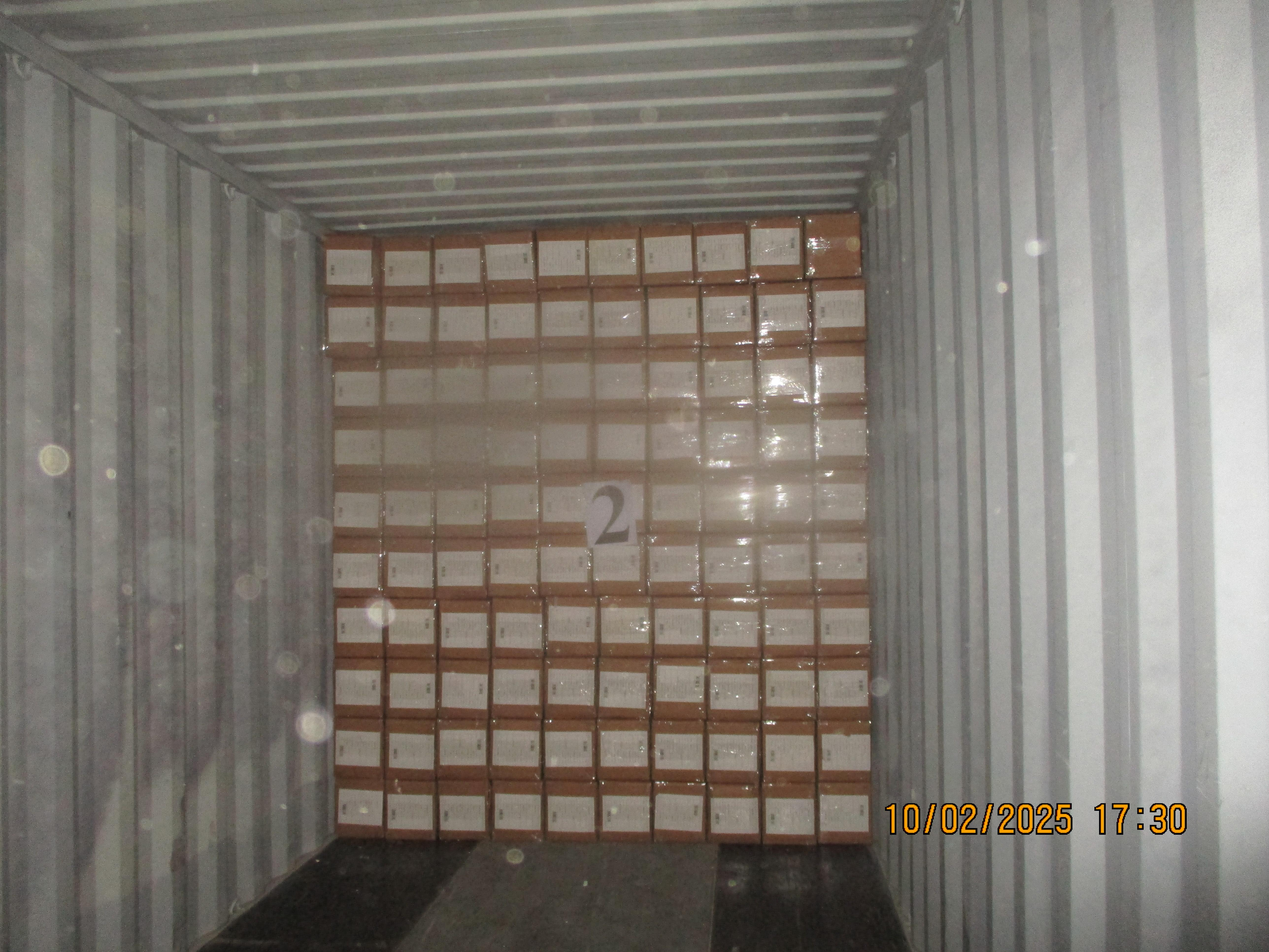carton: (804, 212, 861, 278), (747, 217, 804, 282), (754, 281, 811, 346), (811, 277, 867, 342), (754, 345, 811, 408), (813, 468, 870, 531), (813, 405, 869, 469), (320, 235, 378, 296), (324, 296, 381, 358), (757, 470, 814, 532), (811, 342, 867, 405), (760, 657, 816, 720), (702, 407, 758, 470), (645, 533, 701, 596), (702, 471, 758, 534), (816, 656, 871, 720), (815, 594, 871, 656), (701, 534, 757, 596), (646, 409, 702, 471), (814, 532, 870, 594), (758, 532, 814, 594), (590, 533, 646, 595), (590, 472, 646, 534), (693, 221, 748, 284), (758, 406, 813, 469), (646, 285, 701, 347), (761, 782, 816, 844), (650, 719, 705, 781), (706, 596, 761, 658), (705, 721, 760, 783), (700, 283, 754, 346), (701, 345, 755, 408), (587, 224, 641, 287), (593, 348, 647, 411), (646, 472, 702, 532), (652, 596, 707, 657), (816, 720, 871, 781), (539, 350, 594, 411), (596, 657, 651, 718), (484, 415, 539, 476), (437, 779, 492, 840), (762, 595, 816, 657), (652, 657, 706, 719), (598, 595, 652, 657), (640, 223, 694, 285), (762, 721, 816, 783), (706, 658, 760, 720), (817, 782, 871, 844), (539, 534, 593, 596), (647, 347, 700, 410), (591, 287, 646, 347), (544, 596, 598, 657), (542, 719, 596, 780), (596, 719, 650, 780), (597, 780, 651, 841), (539, 473, 593, 534), (539, 412, 593, 473), (536, 227, 589, 289), (489, 718, 542, 780), (485, 352, 538, 414), (652, 781, 706, 841), (706, 783, 760, 843), (378, 236, 432, 296), (490, 597, 543, 658), (539, 288, 592, 349), (434, 538, 487, 599), (434, 293, 487, 354), (483, 230, 535, 292), (544, 657, 596, 719), (435, 719, 488, 779), (436, 659, 489, 719), (384, 598, 437, 658), (490, 780, 543, 840), (382, 537, 435, 597), (486, 476, 539, 536), (381, 296, 434, 356), (490, 658, 543, 718), (593, 411, 646, 471), (434, 478, 487, 538), (544, 780, 596, 841), (486, 292, 538, 353), (437, 599, 490, 658), (384, 779, 436, 839), (385, 658, 437, 718), (331, 537, 383, 597), (486, 537, 538, 597), (382, 417, 434, 477), (382, 356, 434, 416), (384, 719, 435, 780), (330, 358, 382, 417), (432, 234, 484, 293), (383, 478, 435, 537), (332, 477, 383, 537), (332, 417, 383, 477), (434, 355, 485, 415), (333, 717, 383, 778), (333, 658, 384, 717), (334, 597, 384, 657), (334, 777, 384, 837), (434, 416, 484, 476)
